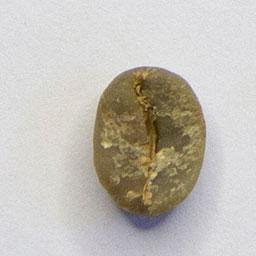premium: (90, 64, 209, 219)
